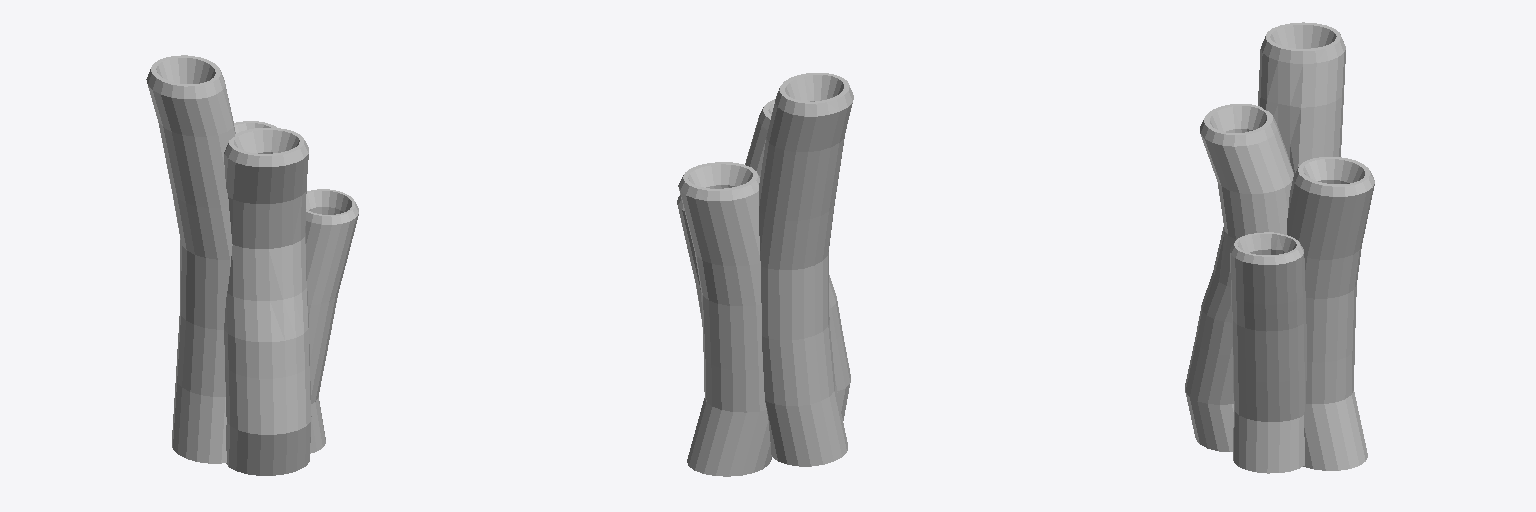
Rendered from coral.obj.
3 views of the same model, side by side, from view 1: azimuth 30°, elevation 25°; view 2: azimuth 150°, elevation 25°; view 3: azimuth 270°, elevation 25° (orthographic).
Visible parts, largest first — view 1: polySurface3; view 2: polySurface3; view 3: polySurface3.
Part boxes in pixels (x1,y1,x2,y2): polySurface3: (146,55,358,475); polySurface3: (677,73,853,476); polySurface3: (1185,22,1374,473).
Bounding box in the file's own units: 1.62 × 3.21 × 1.45.